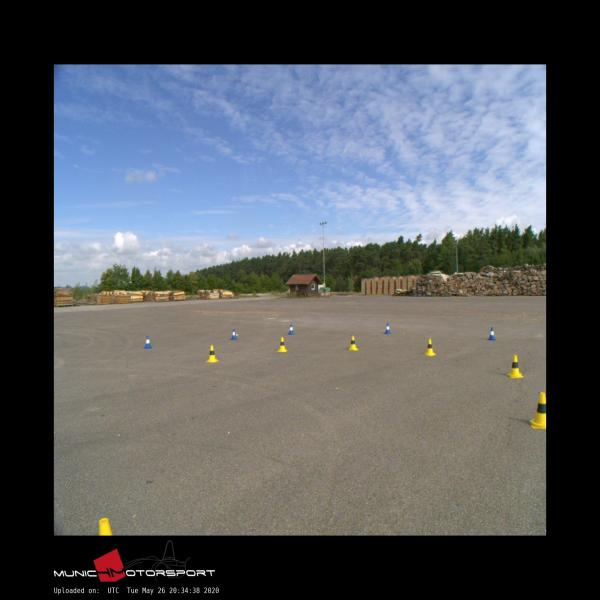blue_cone: (489, 326, 496, 340), (144, 336, 151, 349), (231, 328, 237, 340), (384, 323, 391, 333), (288, 324, 294, 334)
yellow_cone: (530, 392, 546, 428), (506, 355, 523, 377), (206, 345, 219, 362), (423, 339, 436, 354), (276, 337, 286, 351), (349, 335, 358, 350)
